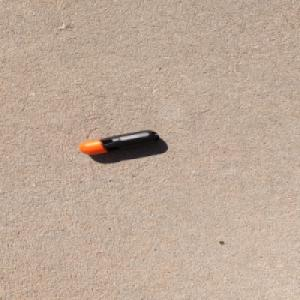PlasticPart: (78, 129, 160, 155)
